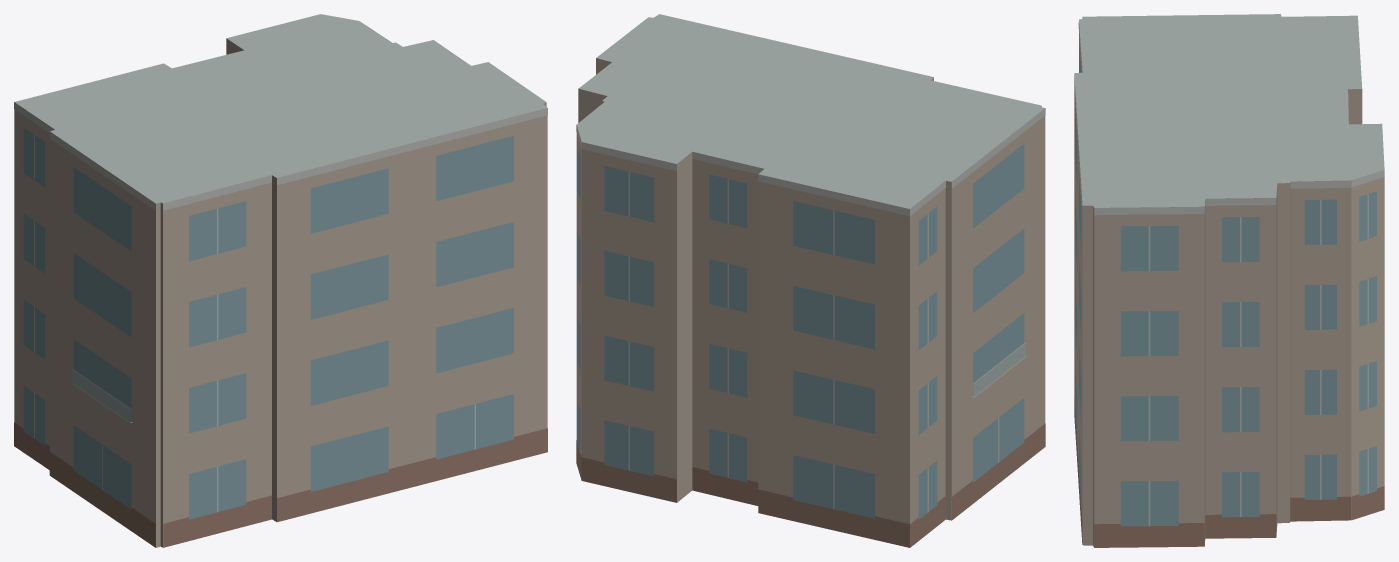
Rendered from survey-upis-33001298.glb.
3 views of the same model, side by side, from view 1: azimuth 30°, elevation 25°; view 2: azimuth 150°, elevation 25°; view 3: azimuth 270°, elevation 25° (orthographic).
Visible parts, largest first — view 1: survey-upis-33001298.tmp; view 2: survey-upis-33001298.tmp; view 3: survey-upis-33001298.tmp.
Boxes of the visible parts, x1,y1,x2,y2 form: survey-upis-33001298.tmp: (14,14,547,547); survey-upis-33001298.tmp: (576,14,1045,547); survey-upis-33001298.tmp: (1074,14,1384,547).
Bounding box in the file's own units: 14.08 × 11.5 × 9.53.
